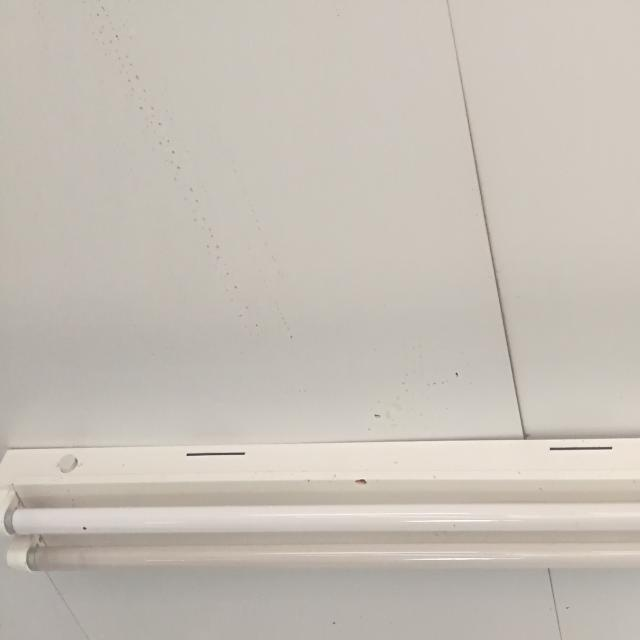fluorescent tube: (5, 415, 640, 617)
